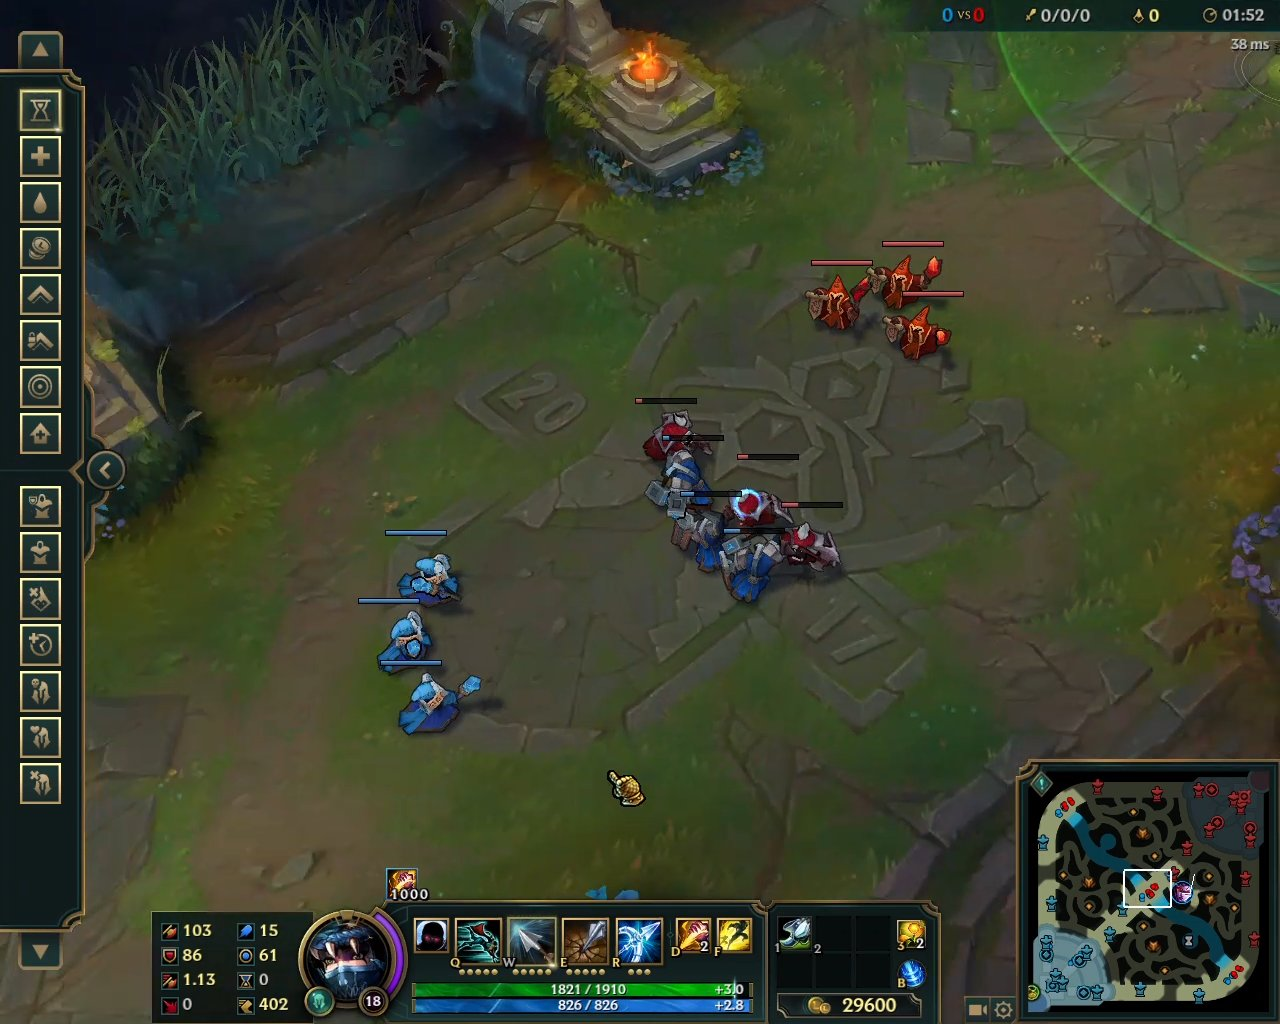EnemyMinion: (724, 450, 802, 533), (630, 391, 714, 468), (878, 290, 964, 363), (864, 238, 952, 309), (799, 260, 879, 334), (775, 501, 847, 577)
